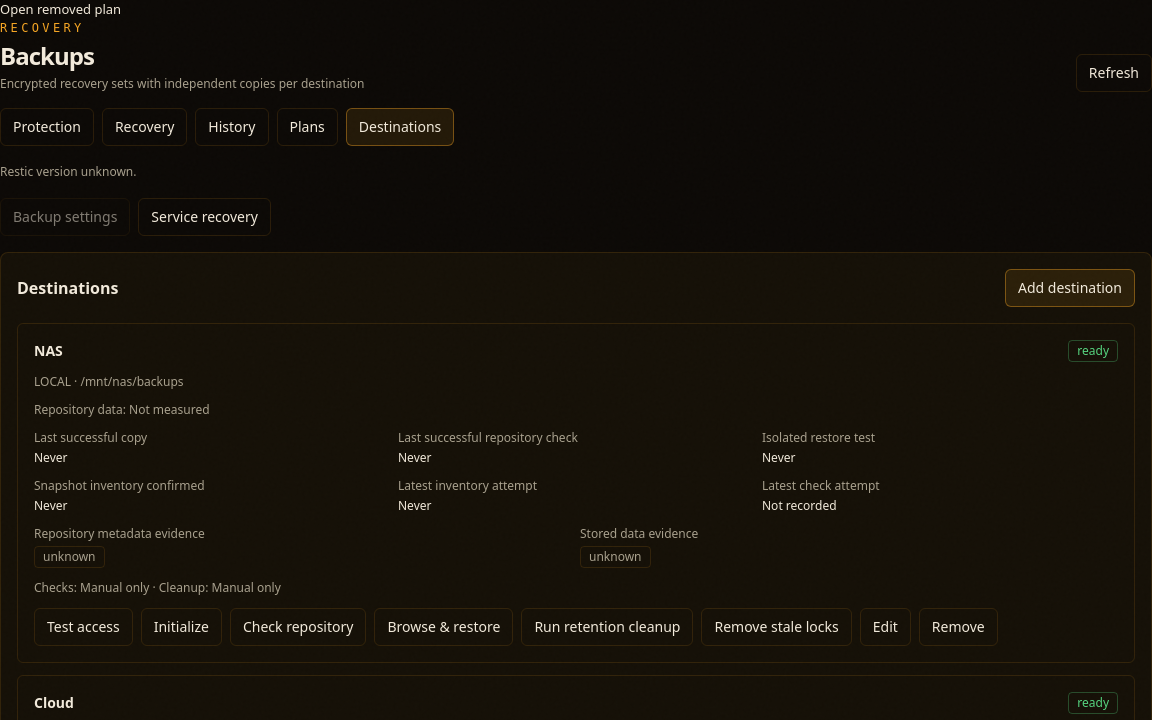
Scenario: Backup workflow round three regressions › reports a removed linked plan at page scope after a destination command failed
Click the button "Test access": (83,626) 34,608 -> 133,646
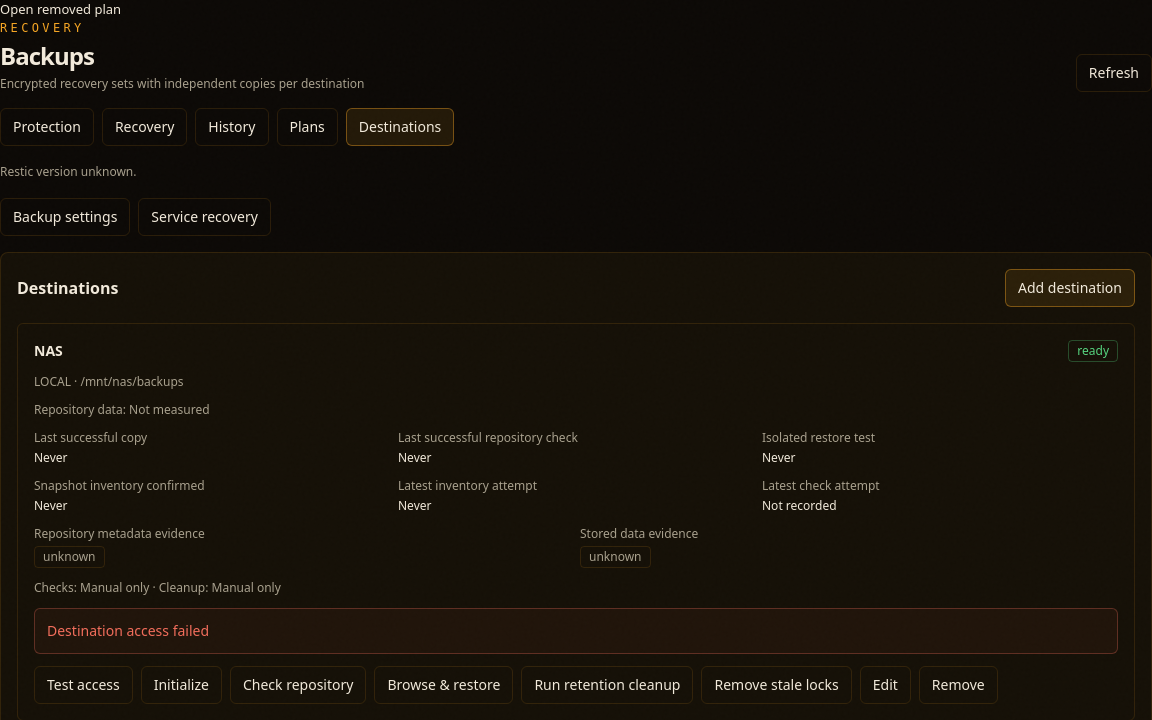
Result: the text "Destination access failed" is shown at 34,608 -> 1118,654
Click the link "Open removed plan": (61,9) 0,0 -> 121,18
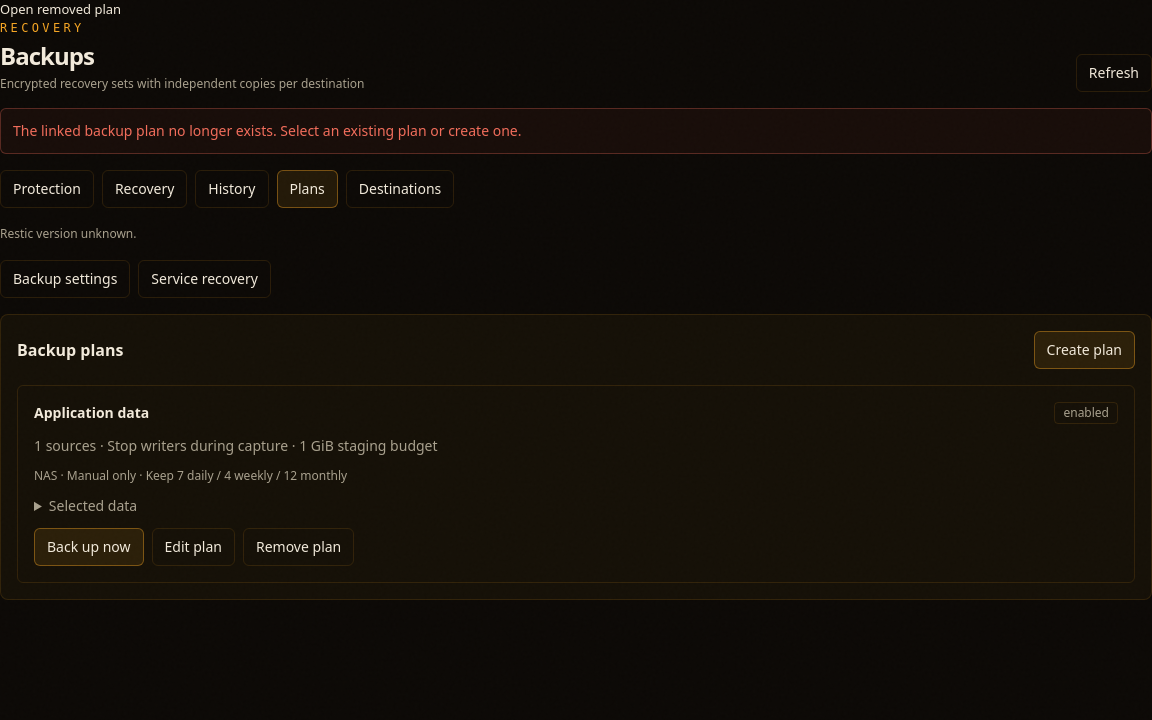
Result: the text "The linked backup plan no longer exists" is shown at 13,120 -> 522,140
